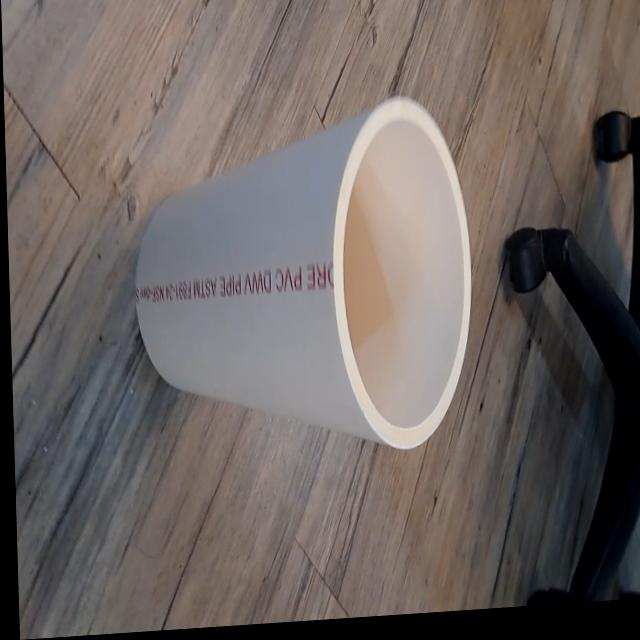CORAL: (123, 85, 483, 491)
